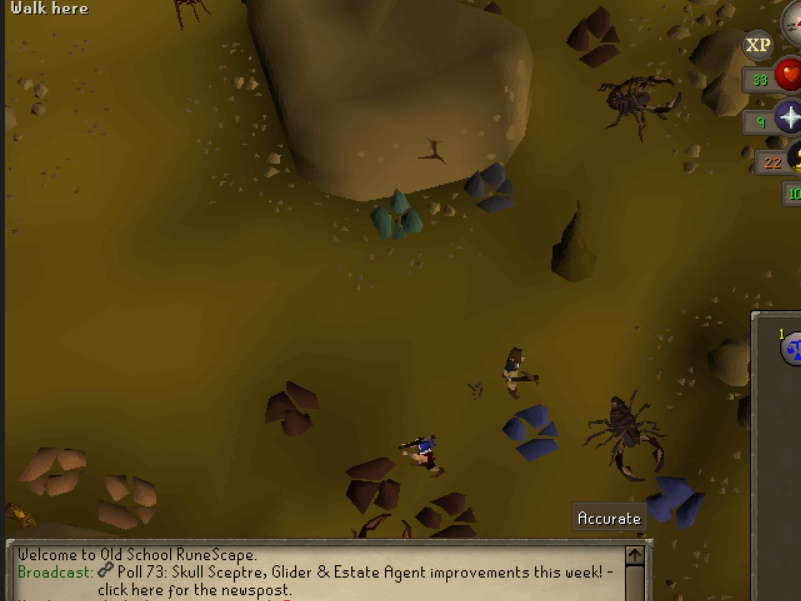adamant: (363, 185, 428, 243)
copper: (14, 438, 90, 504), (91, 468, 167, 534)
iron: (262, 372, 322, 437), (345, 447, 405, 512), (566, 6, 626, 71), (413, 489, 481, 537)
mithril: (496, 397, 566, 462), (642, 470, 712, 535)
